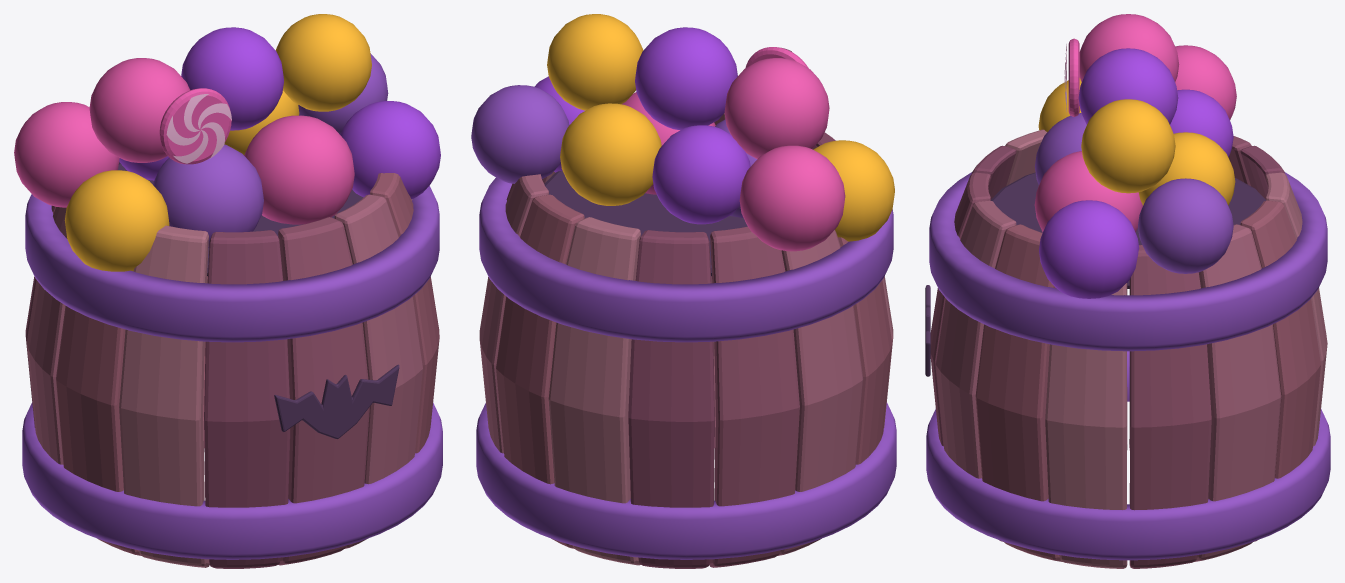
The model's file is candy_barrel_NEW.glb.
3 renders of one model, left to right at view 1: azimuth 30°, elevation 25°; view 2: azimuth 150°, elevation 25°; view 3: azimuth 270°, elevation 25°, orthographic. The views are drawn at different scales.
Visible parts, largest first — view 1: candy_barrel_NEW_visual; view 2: candy_barrel_NEW_visual; view 3: candy_barrel_NEW_visual.
Boxes of the visible parts, left/top/right/bottom form: candy_barrel_NEW_visual: left=14, top=14, right=442, bottom=568; candy_barrel_NEW_visual: left=471, top=14, right=896, bottom=568; candy_barrel_NEW_visual: left=925, top=14, right=1330, bottom=568.
Size of the model in its own units: 1.34 by 1.67 by 1.34.
